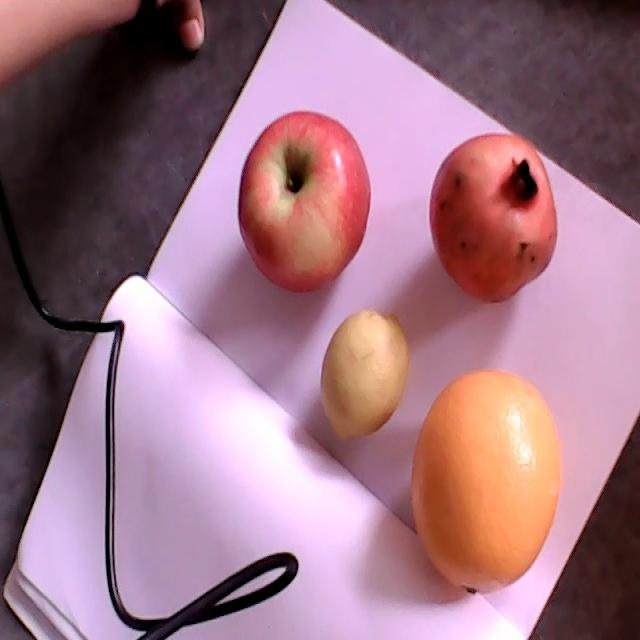apple: (238, 111, 370, 294)
lemon: (320, 310, 408, 439)
orange: (411, 365, 562, 595)
pomegranate: (429, 134, 557, 304)
